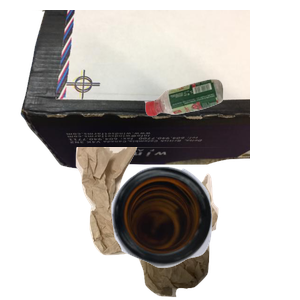cardboard: (18, 10, 258, 171)
glass: (109, 164, 300, 300)
plastic: (142, 77, 300, 186)
trash: (73, 147, 300, 300)
